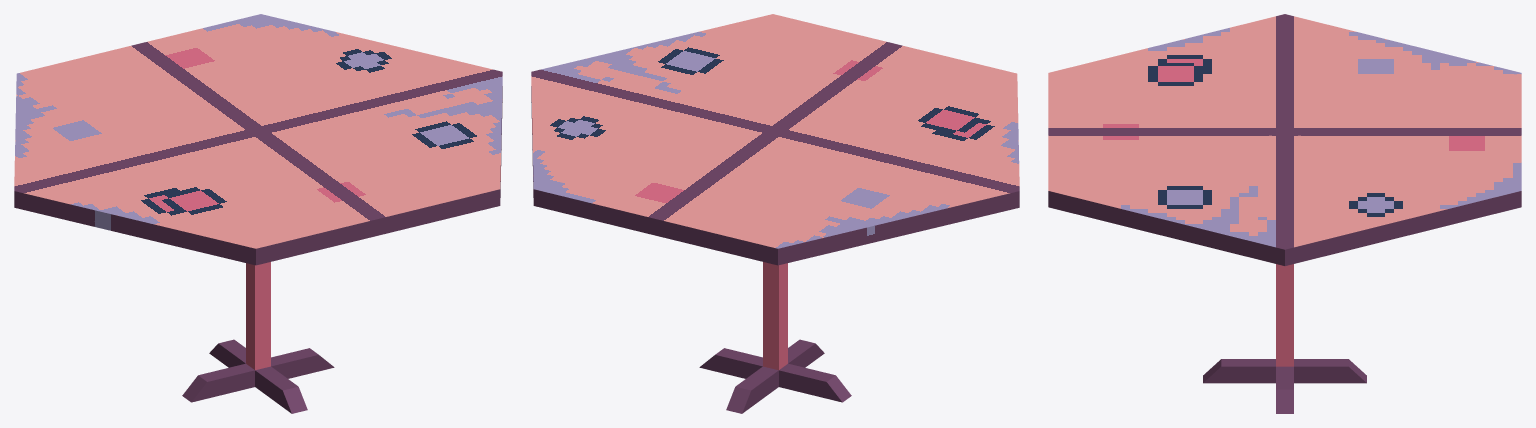
Rendered from Table_round.gltf.
3 views of the same model, side by side, from view 1: azimuth 30°, elevation 25°; view 2: azimuth 150°, elevation 25°; view 3: azimuth 270°, elevation 25° (orthographic).
Parts seen in each view (by area): view 1: cylinder, cuboid; view 2: cylinder, cuboid; view 3: cylinder, cuboid.
Boxes of the visible parts, left/top/right/bottom form: cylinder: left=14, top=14, right=502, bottom=265; cuboid: left=182, top=262, right=334, bottom=413; cylinder: left=531, top=14, right=1019, bottom=265; cuboid: left=699, top=262, right=851, bottom=413; cylinder: left=1048, top=14, right=1521, bottom=265; cuboid: left=1203, top=264, right=1366, bottom=413.
Size of the model in its own units: 1.92 by 0.9375 by 1.62.
1 material, 1 textured.
